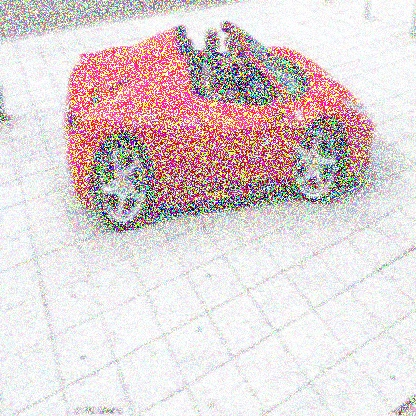Vehicle: (65, 22, 374, 235)
